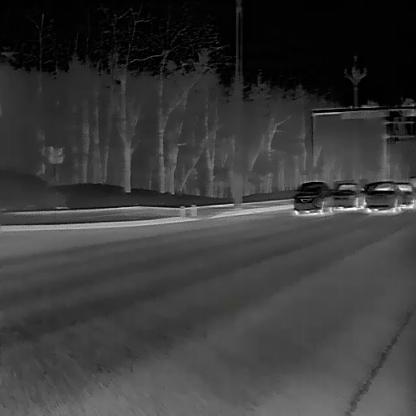car: (293, 181, 334, 212), (363, 181, 402, 210), (332, 181, 365, 209), (397, 181, 415, 206)
